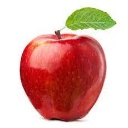apple: (19, 32, 107, 122)
